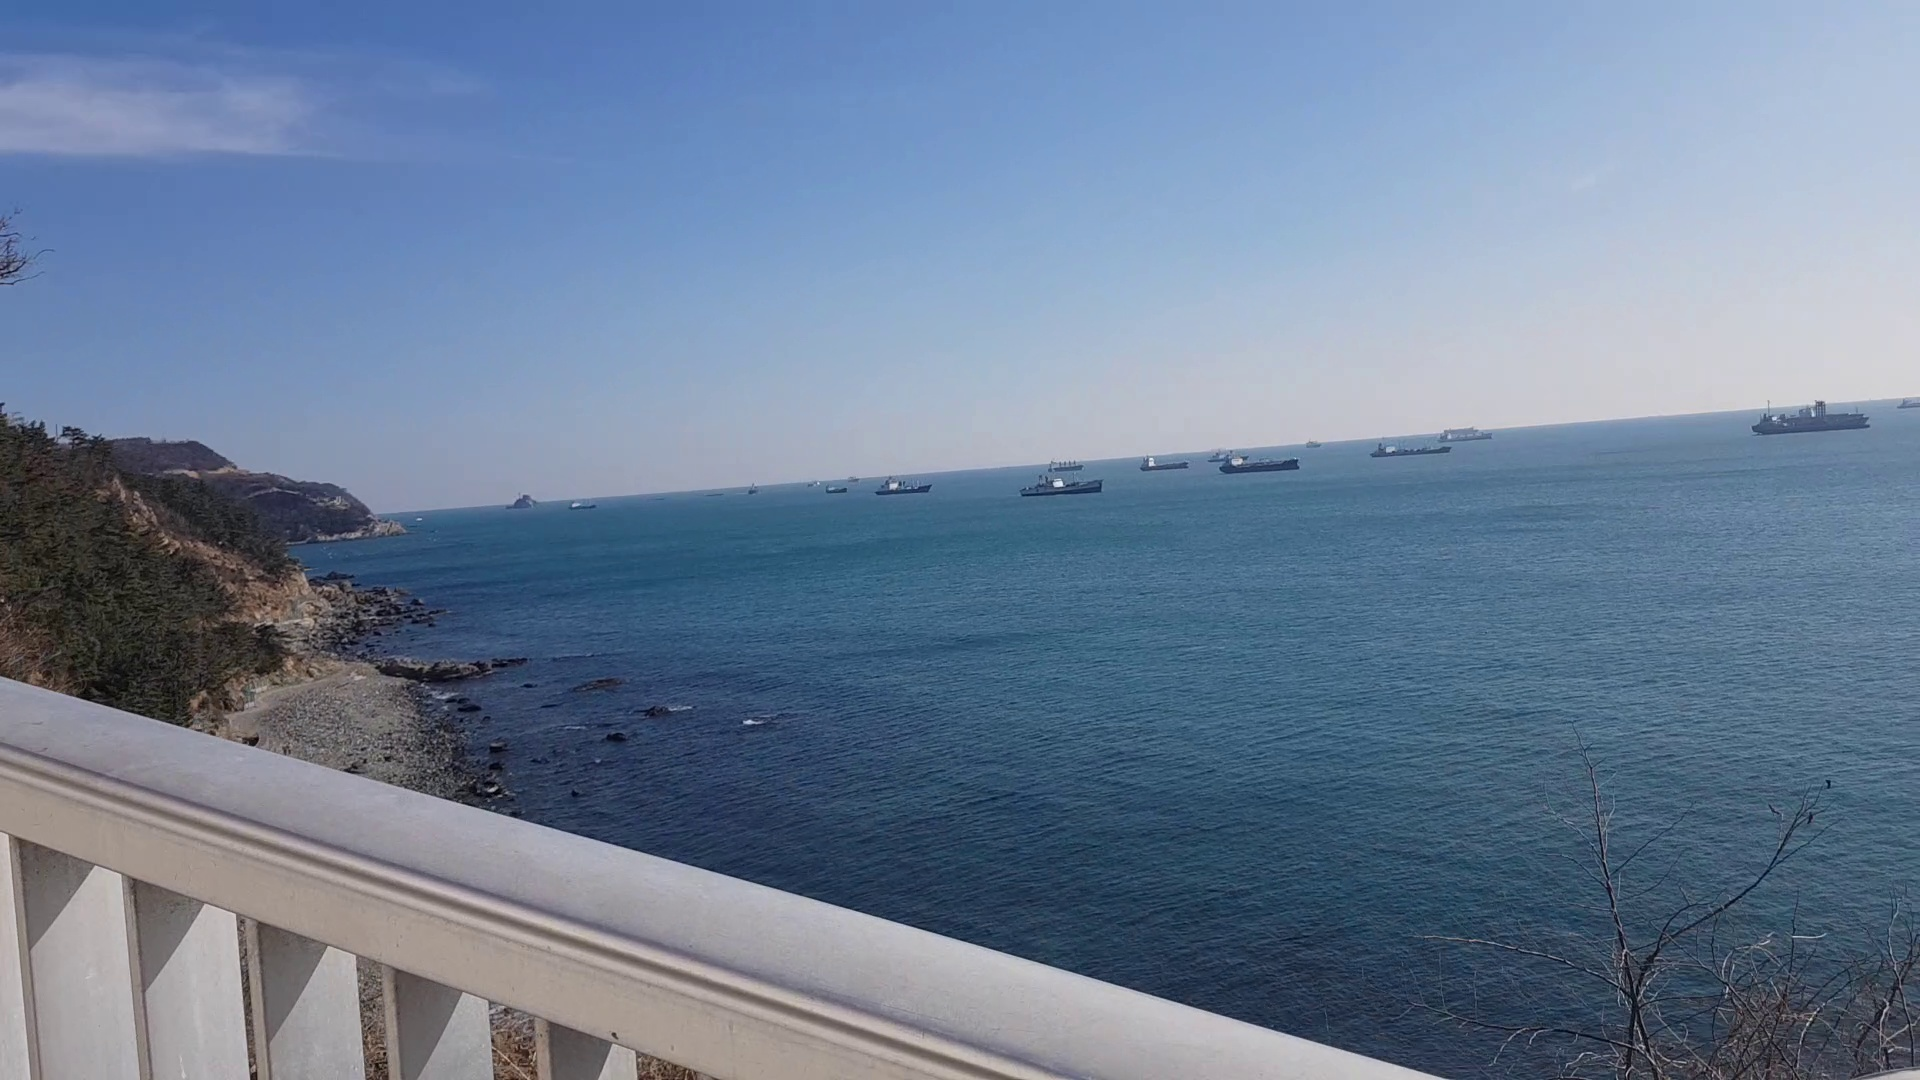Bulk_Carrier: (1218, 454, 1304, 473), (1364, 446, 1452, 459)
